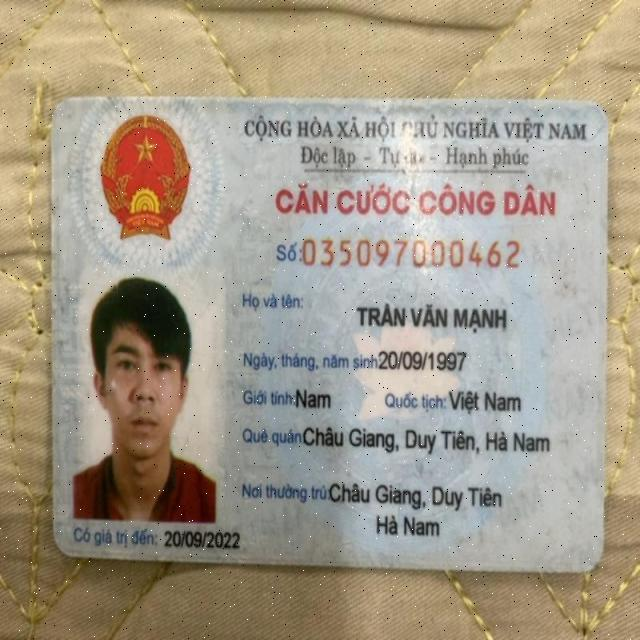current_place: (325, 481, 507, 515), (368, 515, 449, 540)
dob: (376, 345, 470, 375)
expire_date: (162, 523, 244, 553)
gender: (294, 384, 333, 412)
id: (301, 233, 521, 271)
name: (354, 295, 513, 334)
nationality: (448, 388, 523, 417)
origin_place: (300, 423, 559, 460)
